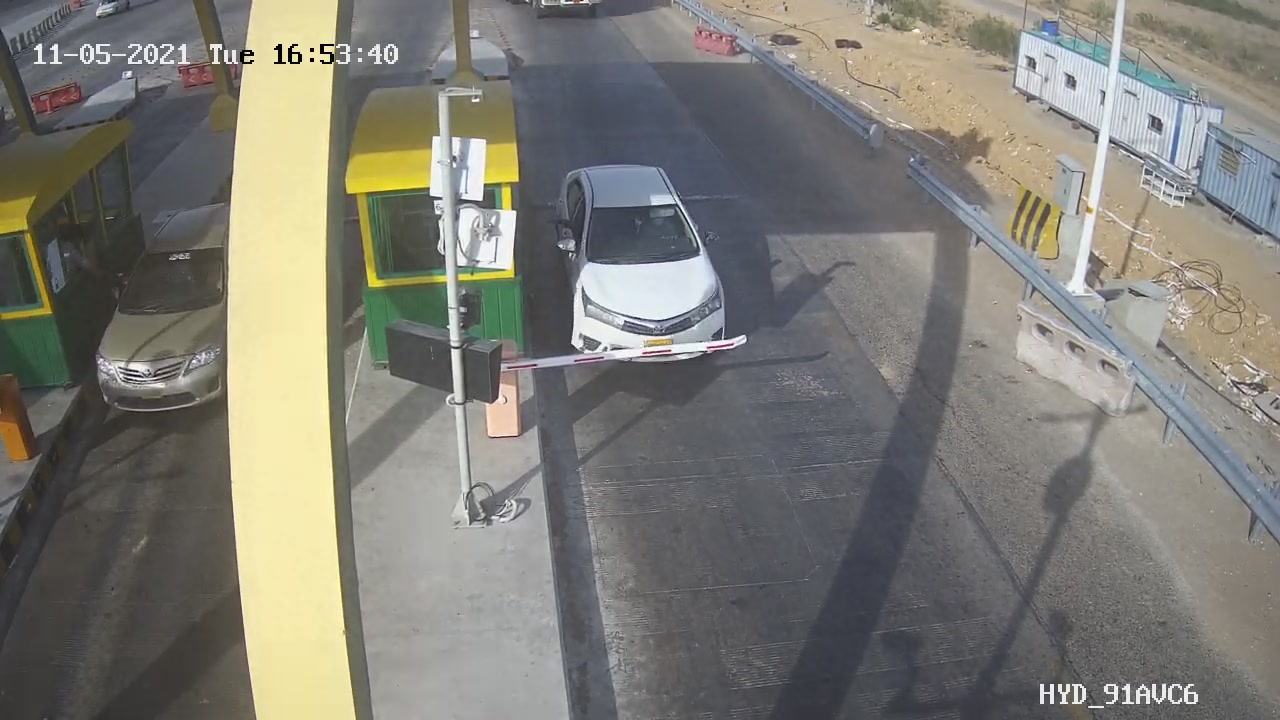F1: (539, 151, 746, 387)
